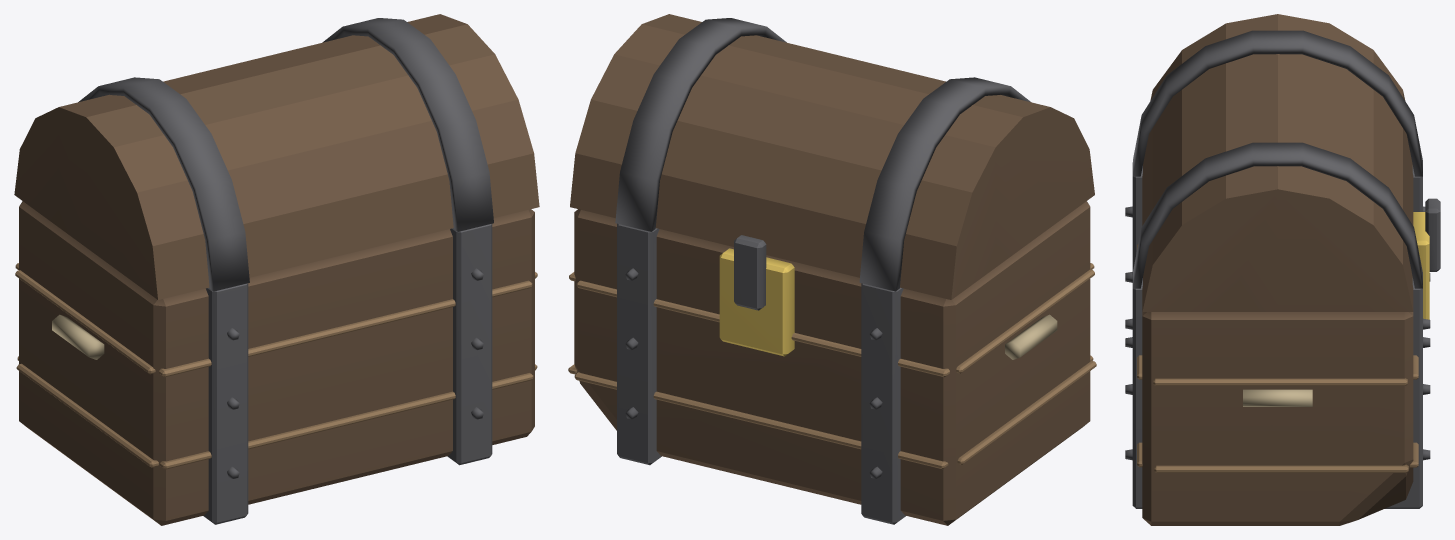
File: chest_closed.8842e5ae.glb
The picture shows the model from 3 angles, left to right: view 1: azimuth 30°, elevation 25°; view 2: azimuth 150°, elevation 25°; view 3: azimuth 270°, elevation 25°; orthographic projection. The views are drawn at different scales.
Parts seen in each view (by area): view 1: chest_closed; view 2: chest_closed; view 3: chest_closed.
Boxes of the visible parts, box(x1,y1,x2,y2) form: chest_closed: box(14, 14, 539, 525); chest_closed: box(568, 14, 1096, 525); chest_closed: box(1125, 14, 1440, 525).
Bounding box in the file's own units: 1.03 × 0.887 × 0.7215.
